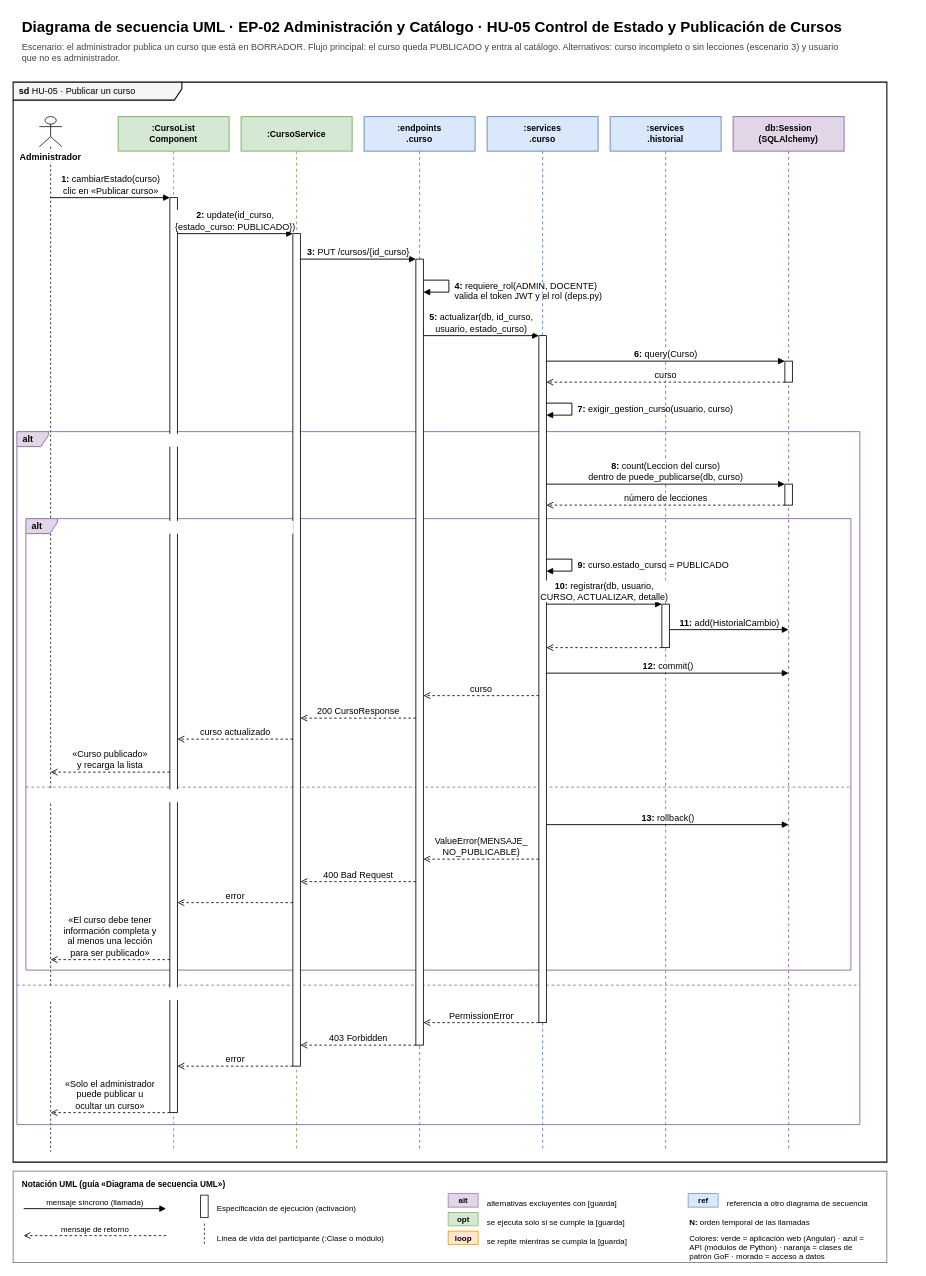
Image size: 926x1276. Some labels were removed from this diagram. The centre of each missing label's shape, as x and y in pixels:
[el usuario es Administrador]: the point at 128,440
[el usuario es Instructor (rol Docente)]: the point at 126,993
[falta información o no tiene lecciones]: the point at 135,795
[información completa y al menos una lección]: the point at 177,526
